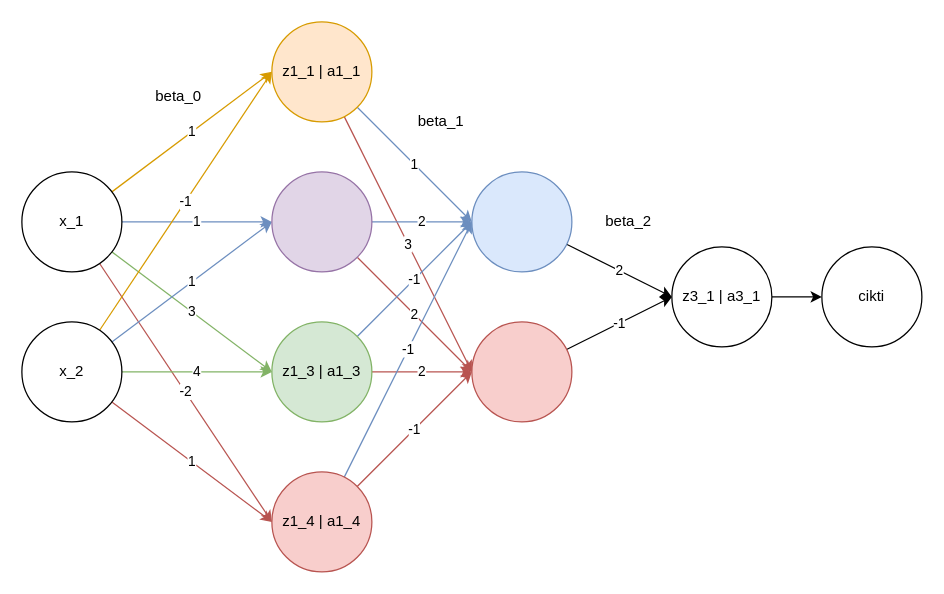
Image size: 944x594. Some labels were removed from this diagram. Each missing label, with the centre of its shape:
"z1_2 | a1_2" belongs at [321,221].
"z2_1 | a2_1" belongs at [521,221].
"z2_2 | a2_2" belongs at [521,371].
